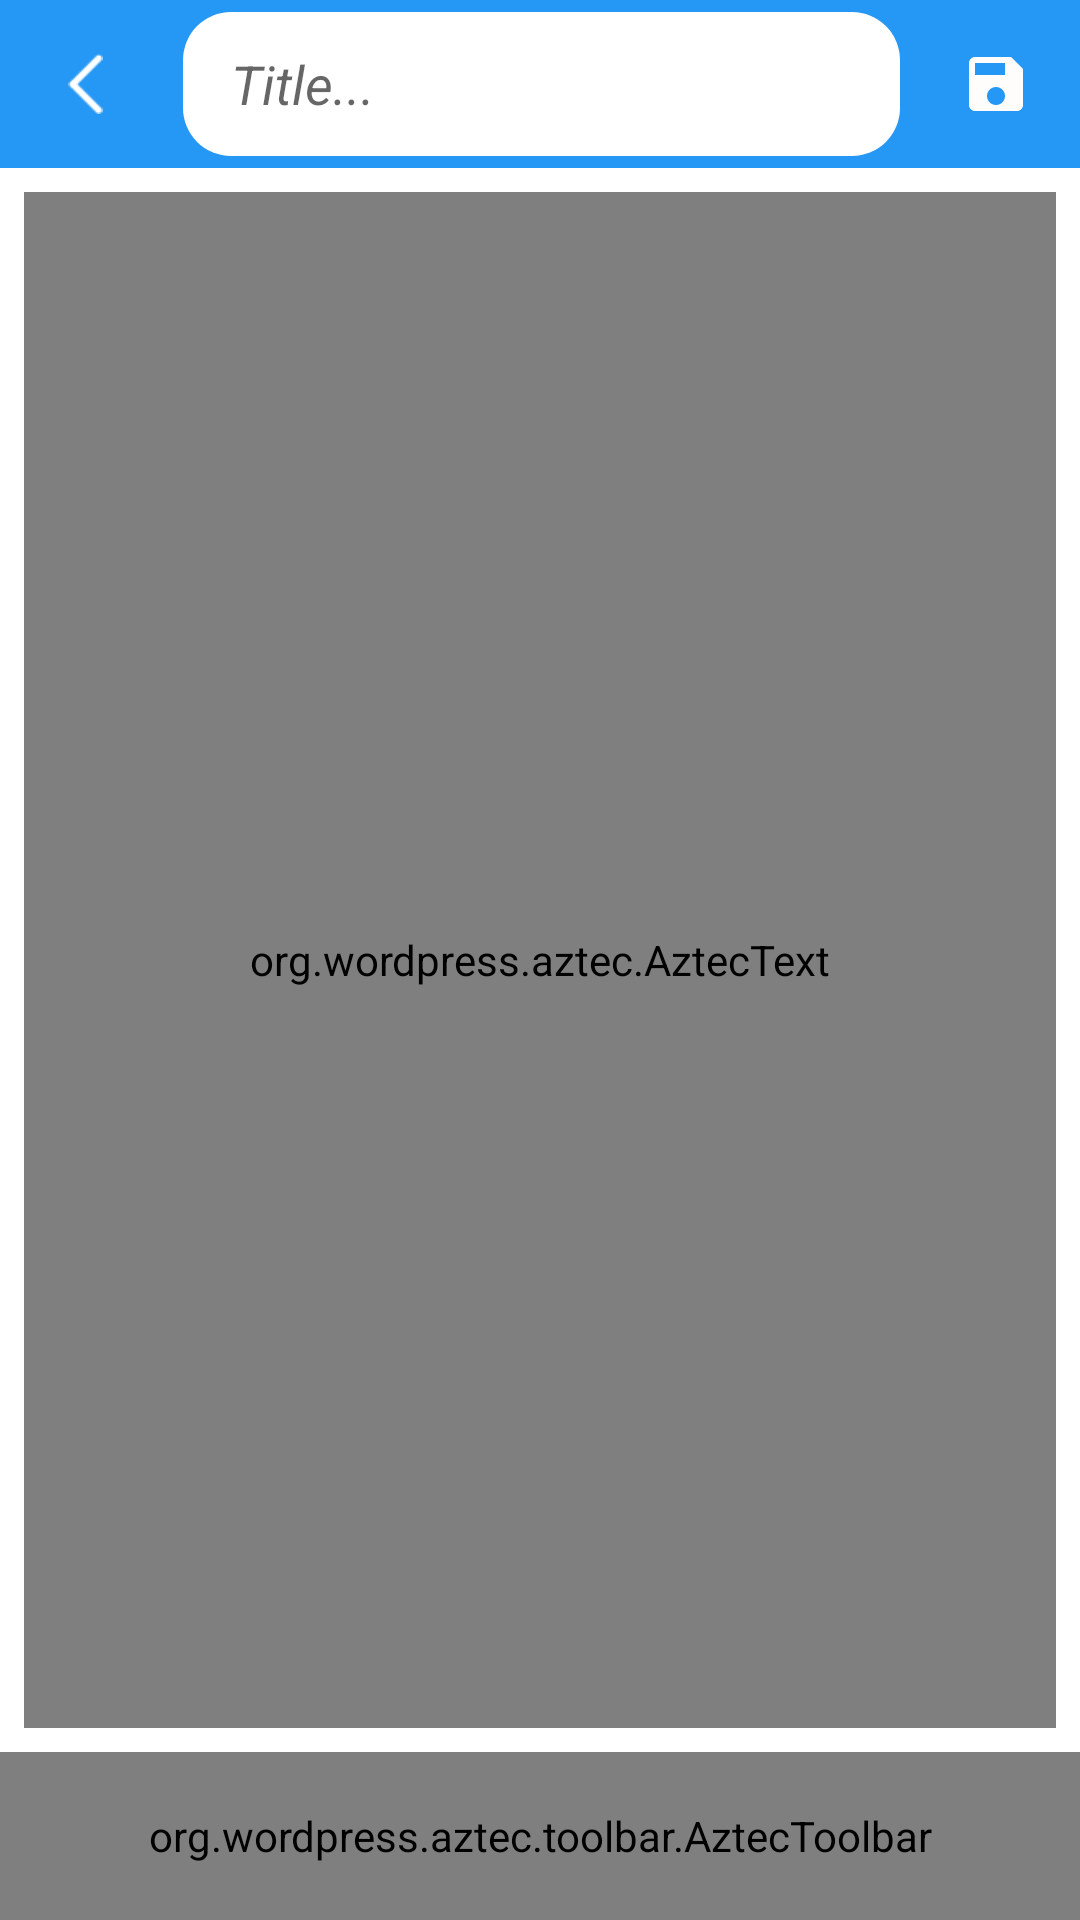

Screen size 1080*1920. Icon name, then its center in pixels as (x=x, y=y):
back: (x=85, y=84)
save: (x=996, y=84)
